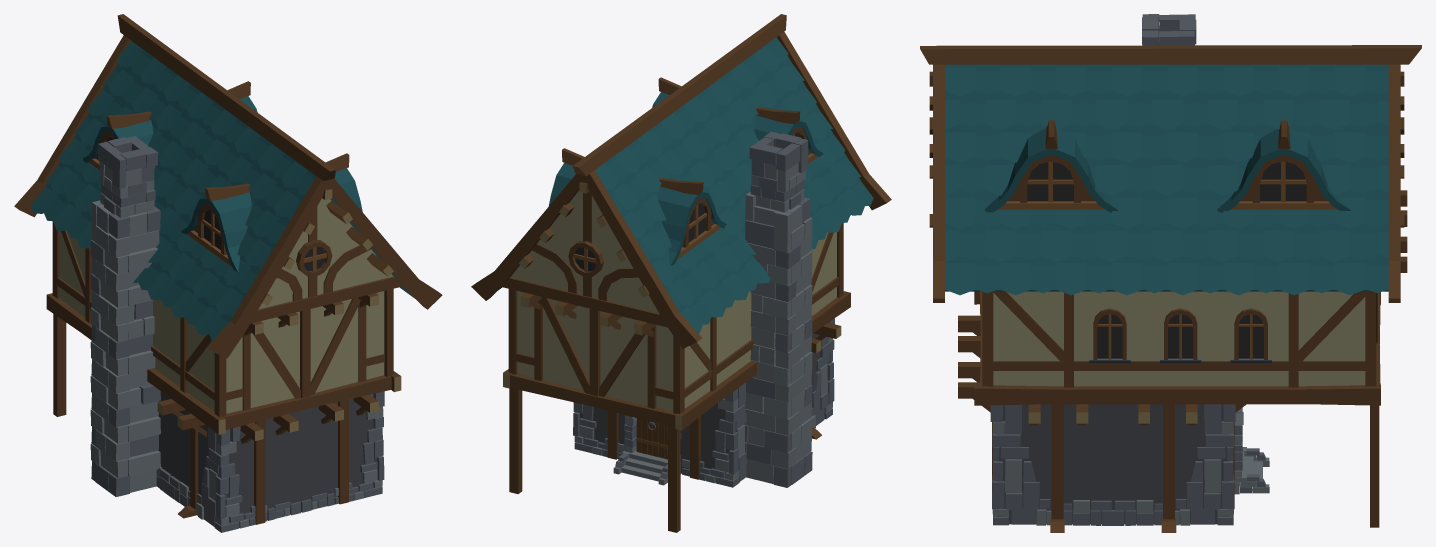
Rendered from village_house_c.glb.
3 renders of one model, left to right at view 1: azimuth 30°, elevation 25°; view 2: azimuth 150°, elevation 25°; view 3: azimuth 270°, elevation 25°, orthographic. The views are drawn at different scales.
Parts seen in each view (by area): view 1: merged; view 2: merged; view 3: merged.
Boxes of the visible parts, x1,y1,x2,y2 form: merged: (14, 14, 442, 532); merged: (471, 14, 891, 532); merged: (920, 14, 1421, 532).
Size of the model in its own units: 3.33 by 4.88 by 5.13.
